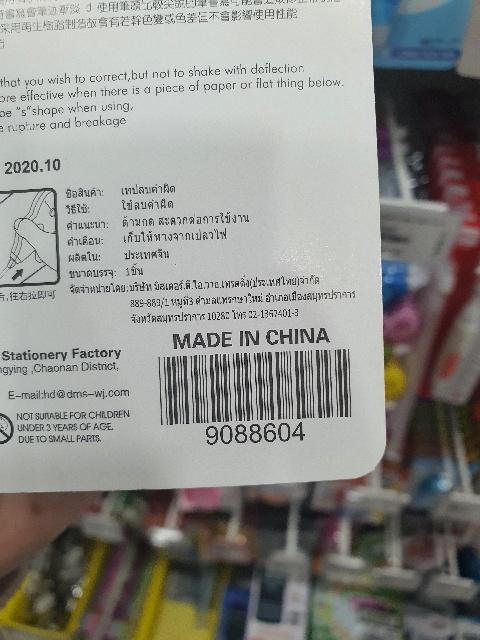Barcode: (148, 344, 367, 443)
